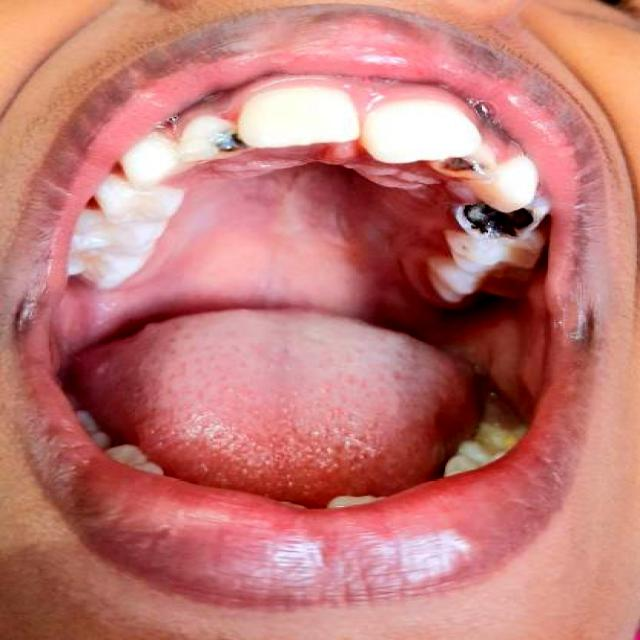cariess: (456, 203, 539, 236), (215, 133, 244, 152)
